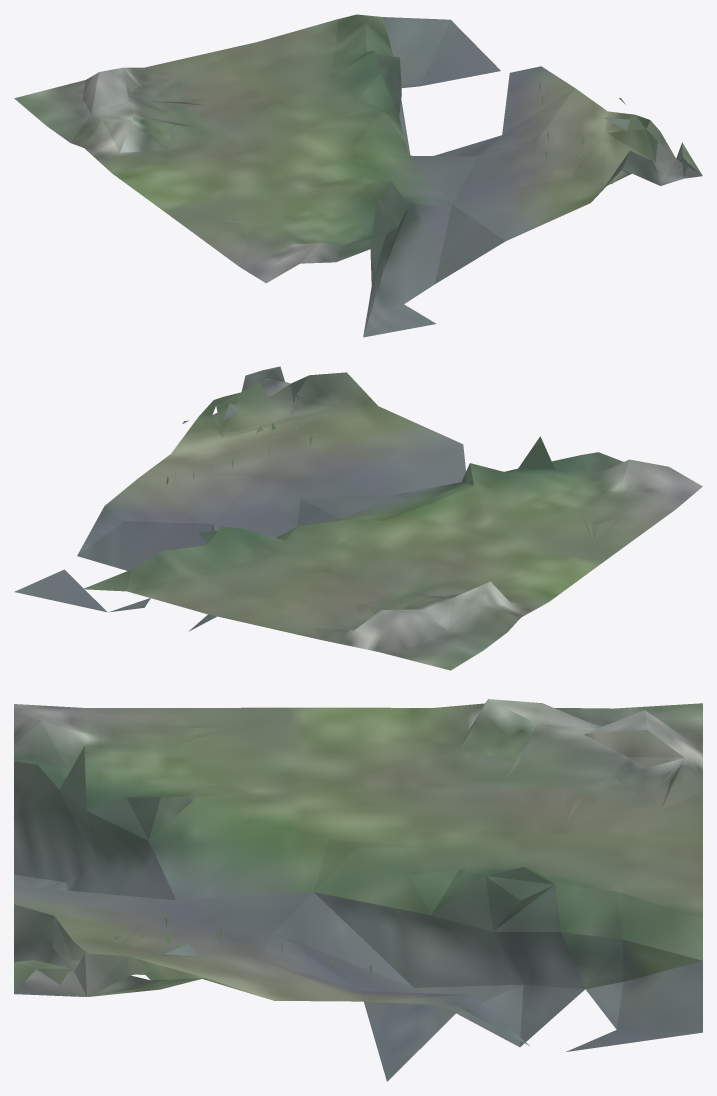
Rendered from Tile__001__007_L15_0.glb.
The picture shows the model from 3 angles, top to bottom: view 1: azimuth 30°, elevation 25°; view 2: azimuth 150°, elevation 25°; view 3: azimuth 270°, elevation 25°; orthographic projection. The views are drawn at different scales.
Visible parts, largest first — view 1: root; view 2: root; view 3: root.
Boxes of the visible parts, box(x1,y1,x2,y2) form: root: box(14, 14, 702, 337); root: box(14, 366, 702, 670); root: box(14, 699, 702, 1081).
Bounding box in the file's own units: 101 × 28.95 × 101.
Materials: 1 (1 with a texture image).
